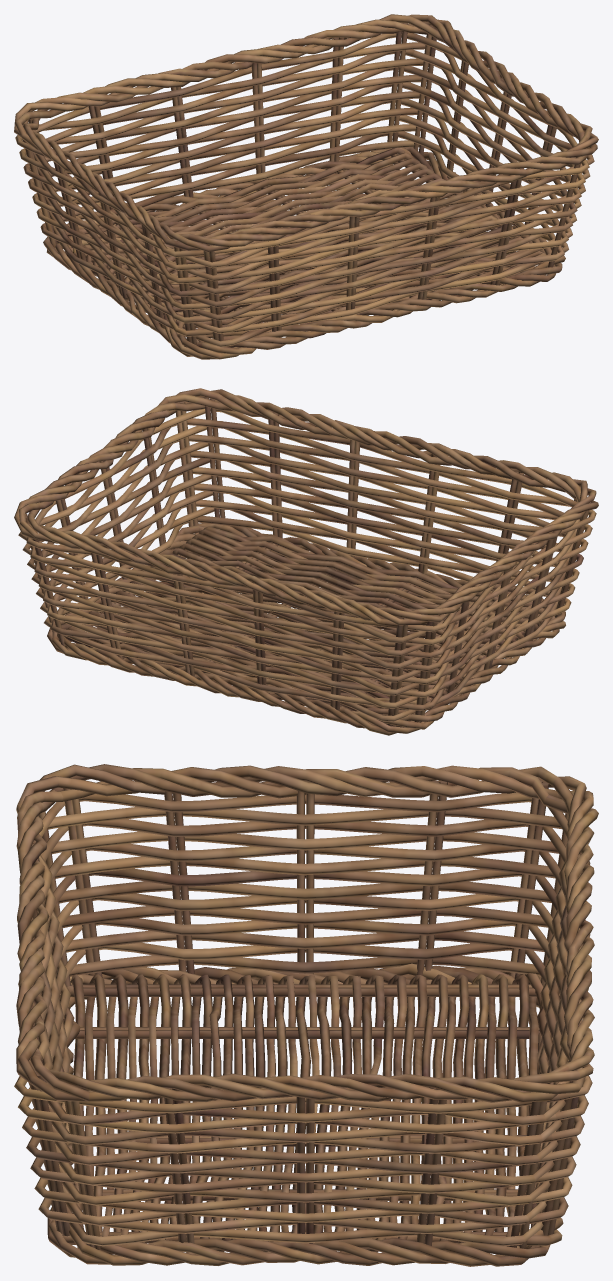
File: wicker_basket_01.glb
3 renders of one model, top to bottom at view 1: azimuth 30°, elevation 25°; view 2: azimuth 150°, elevation 25°; view 3: azimuth 270°, elevation 25°, orthographic. The views are drawn at different scales.
Visible parts, largest first — view 1: wicker_basket_01; view 2: wicker_basket_01; view 3: wicker_basket_01.
Part boxes in pixels (box(x1,y1,x2,y2)): wicker_basket_01: box(14, 14, 598, 359); wicker_basket_01: box(14, 388, 598, 735); wicker_basket_01: box(14, 764, 598, 1266).
Size of the model in its own units: 0.3832 by 0.1174 by 0.295.
Materials: 1 (1 with a texture image).
